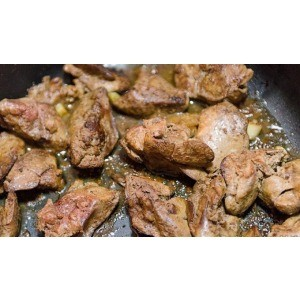green pea_brain food: (120, 122, 230, 169)
liver_brain food: (13, 90, 108, 228)
